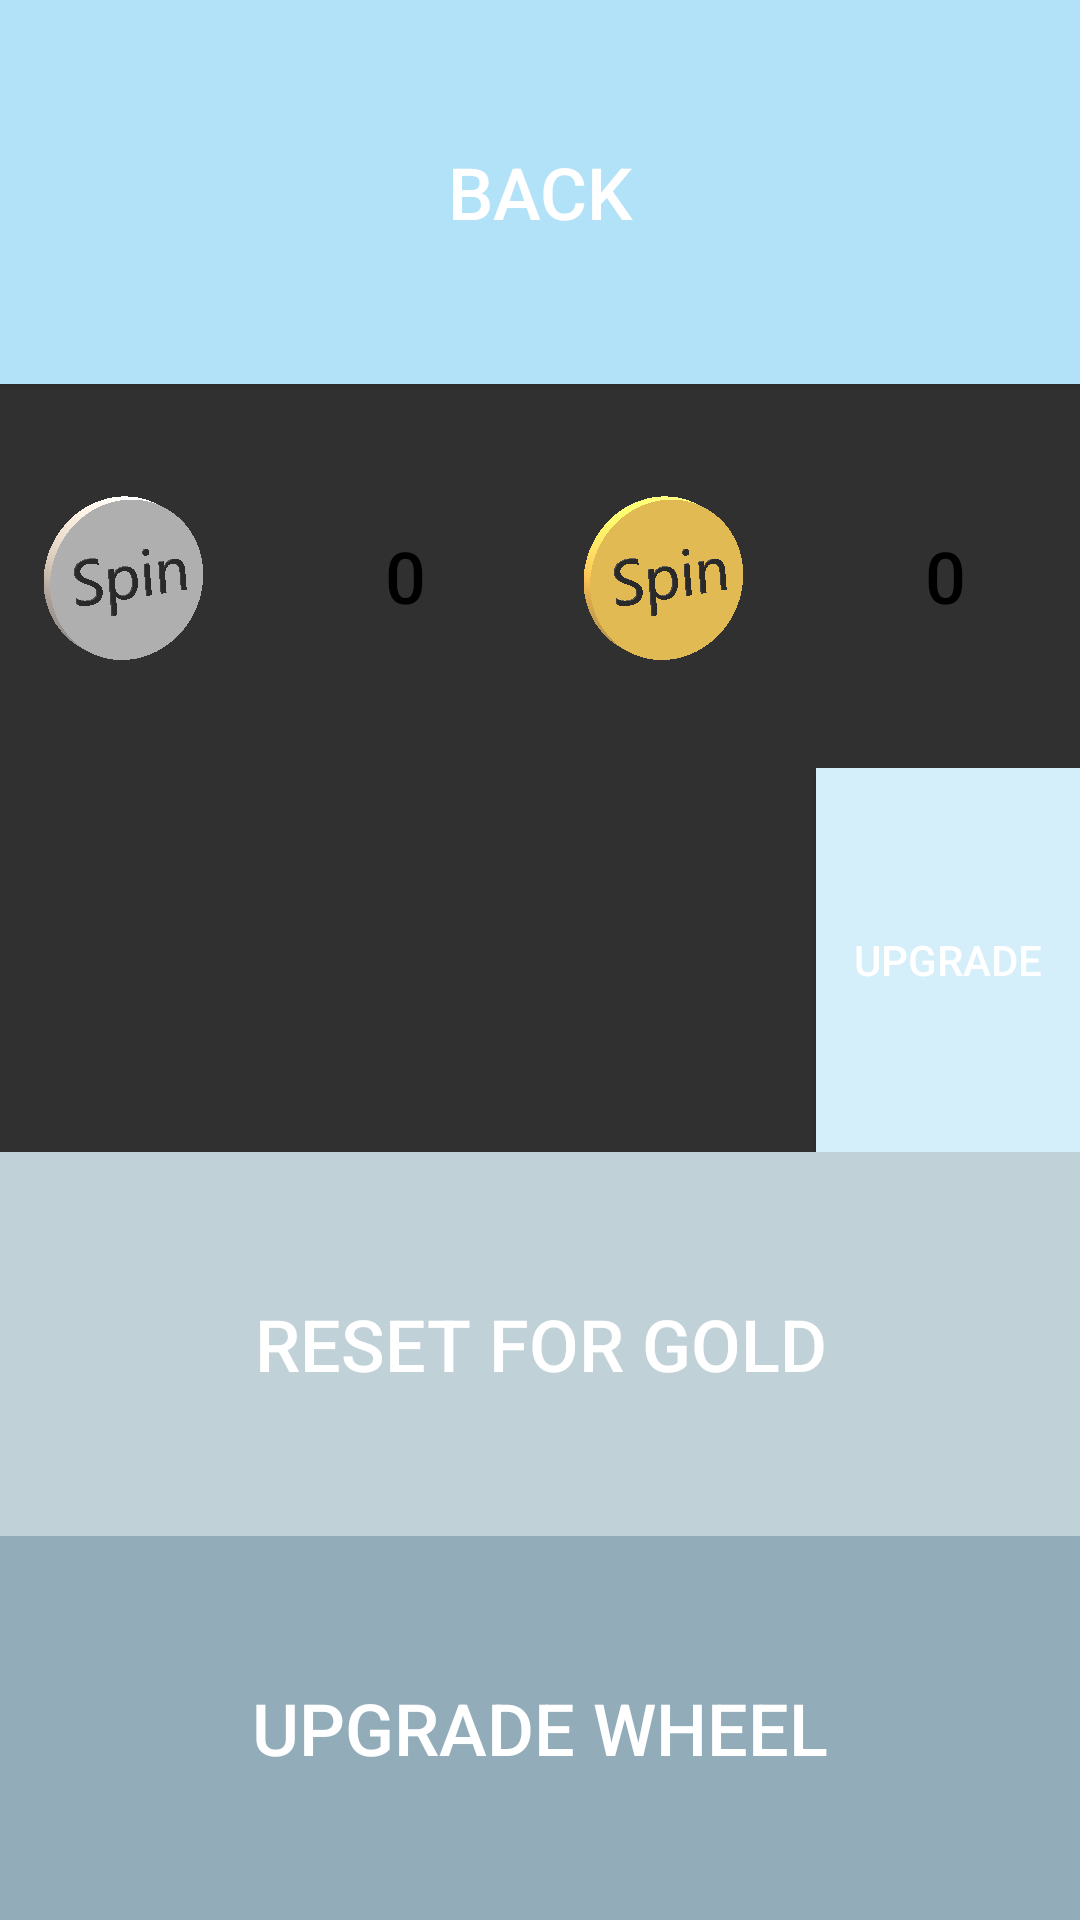

Point at icon controls on the screen. Image size 1080 x 1920, points as (x=x, y=y).
gold coin: (x=663, y=578)
silver coin: (x=123, y=578)
